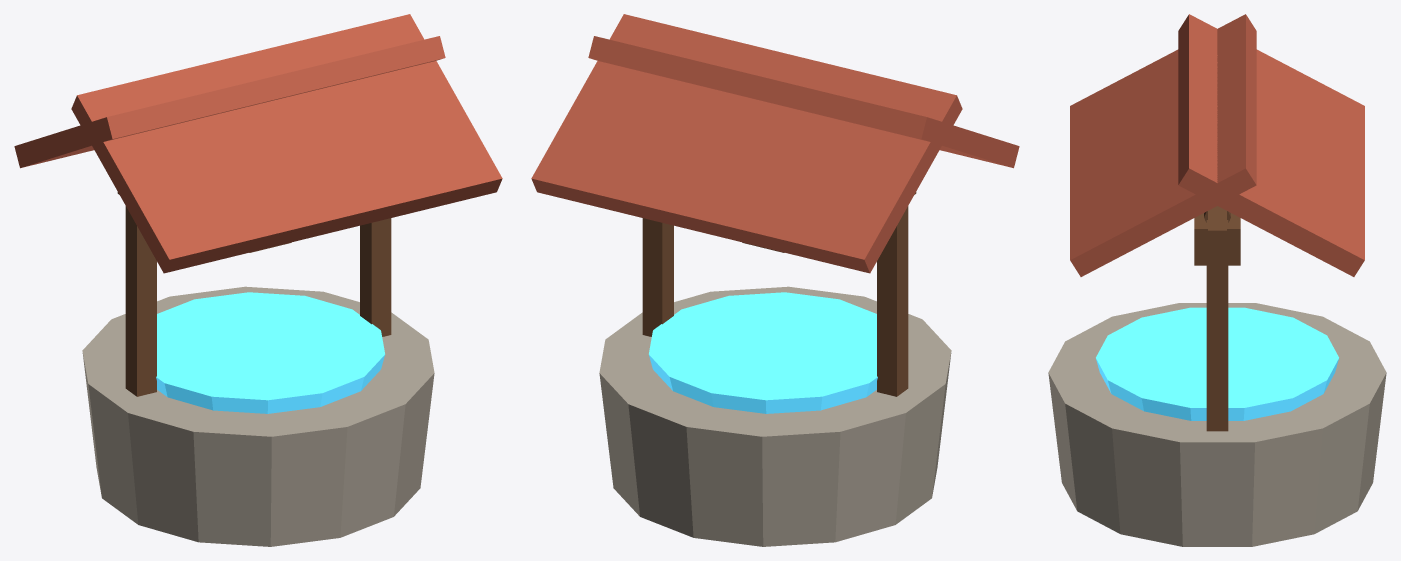
The model's file is well.glb.
3 views of the same model, side by side, from view 1: azimuth 30°, elevation 25°; view 2: azimuth 150°, elevation 25°; view 3: azimuth 270°, elevation 25° (orthographic). The views are drawn at different scales.
Visible parts, largest first — view 1: well; view 2: well; view 3: well.
Part boxes in pixels (box(x1,y1,x2,y2)): well: box(14, 14, 502, 546); well: box(531, 14, 1019, 546); well: box(1048, 14, 1386, 546).
Bounding box in the file's own units: 2.7 × 3.19 × 2.5.
